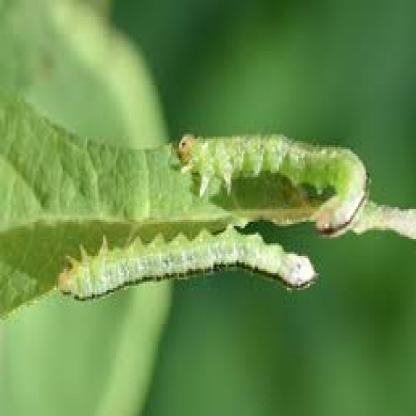sawfly: (54, 223, 319, 310), (174, 127, 367, 238)
